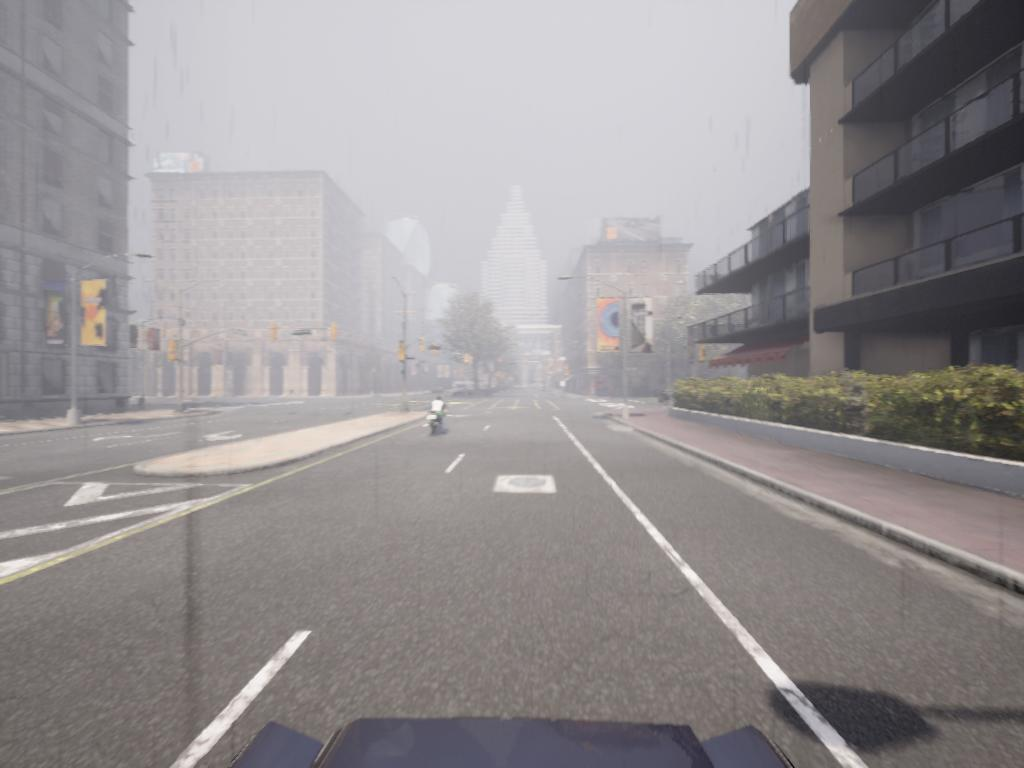traffic_light: (168, 344, 180, 364), (397, 345, 407, 364), (269, 326, 280, 342), (332, 326, 340, 345)
